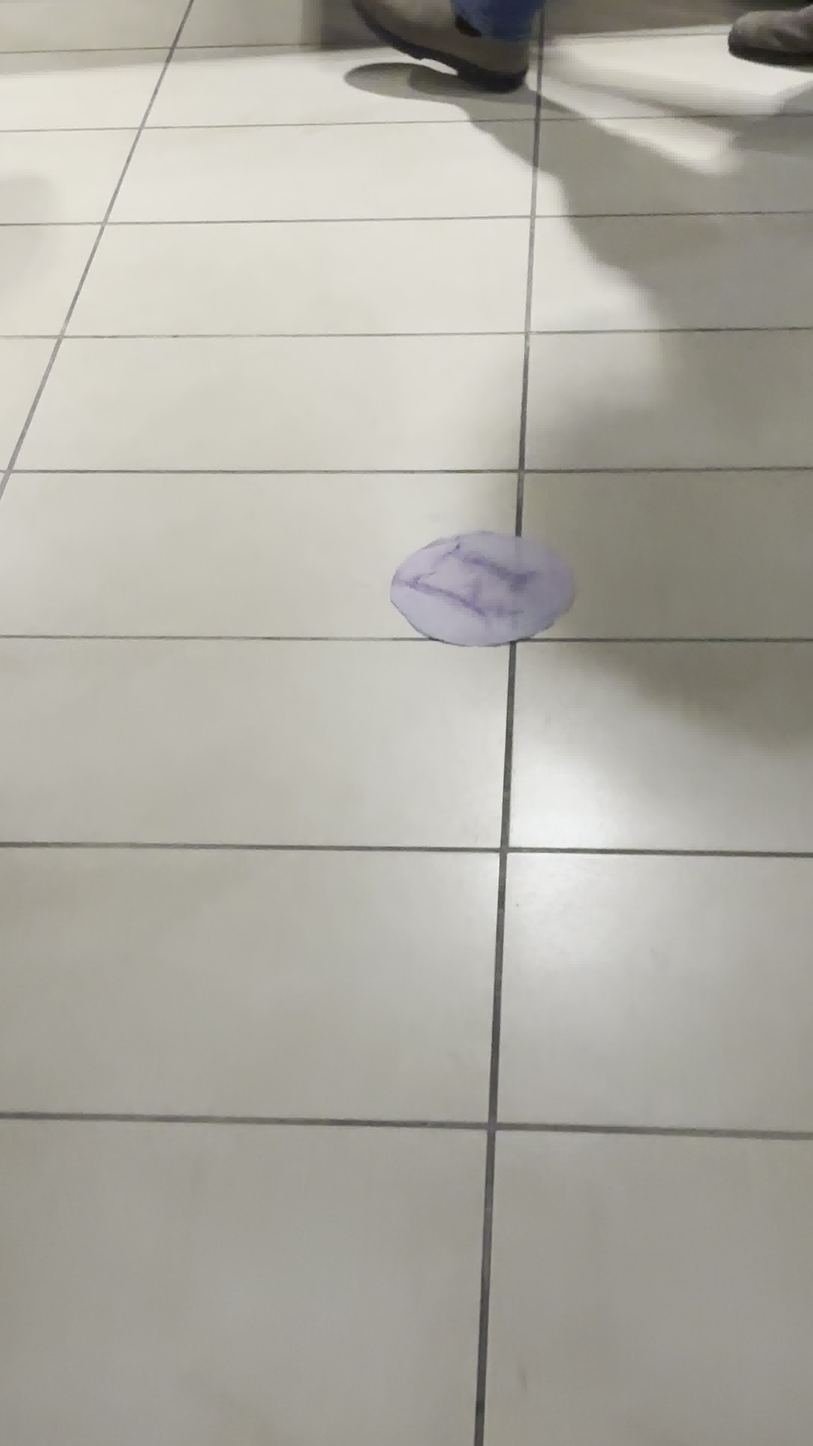Target: (384, 529, 575, 648)
